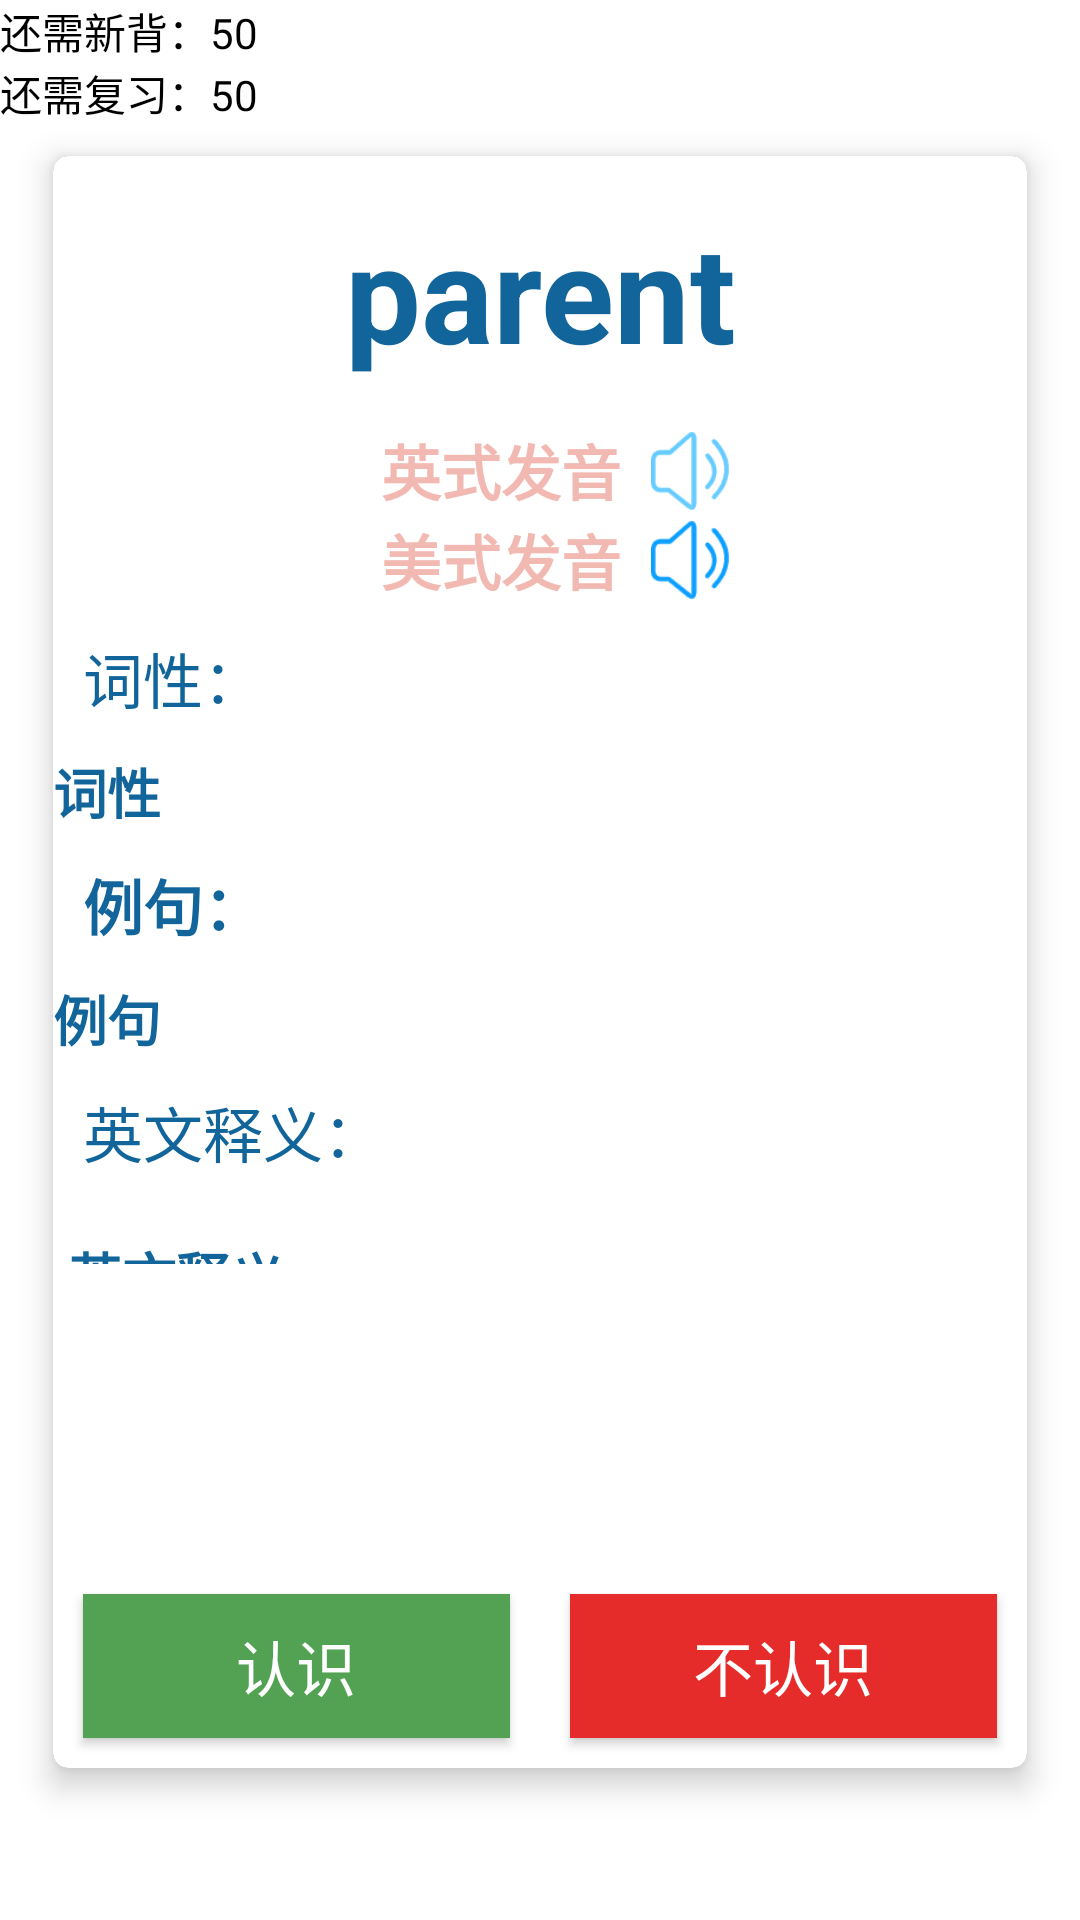

Icons on this 1080px×1920px Android screen, each with its box as (x1, y1, x2, y2):
play voice uk: (651, 432, 729, 510)
play voice us: (651, 521, 729, 599)
